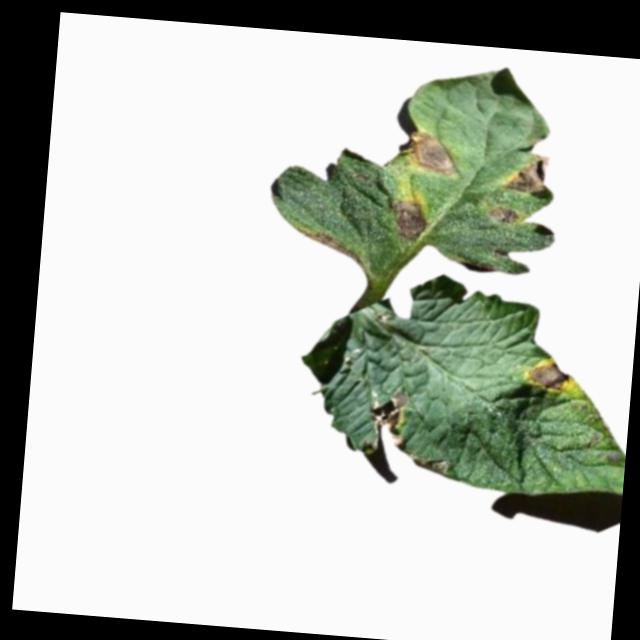Early_blight: (399, 128, 460, 177), (293, 229, 363, 267), (370, 389, 411, 453), (502, 154, 556, 200), (388, 198, 430, 243), (523, 356, 569, 396), (486, 203, 521, 226)
